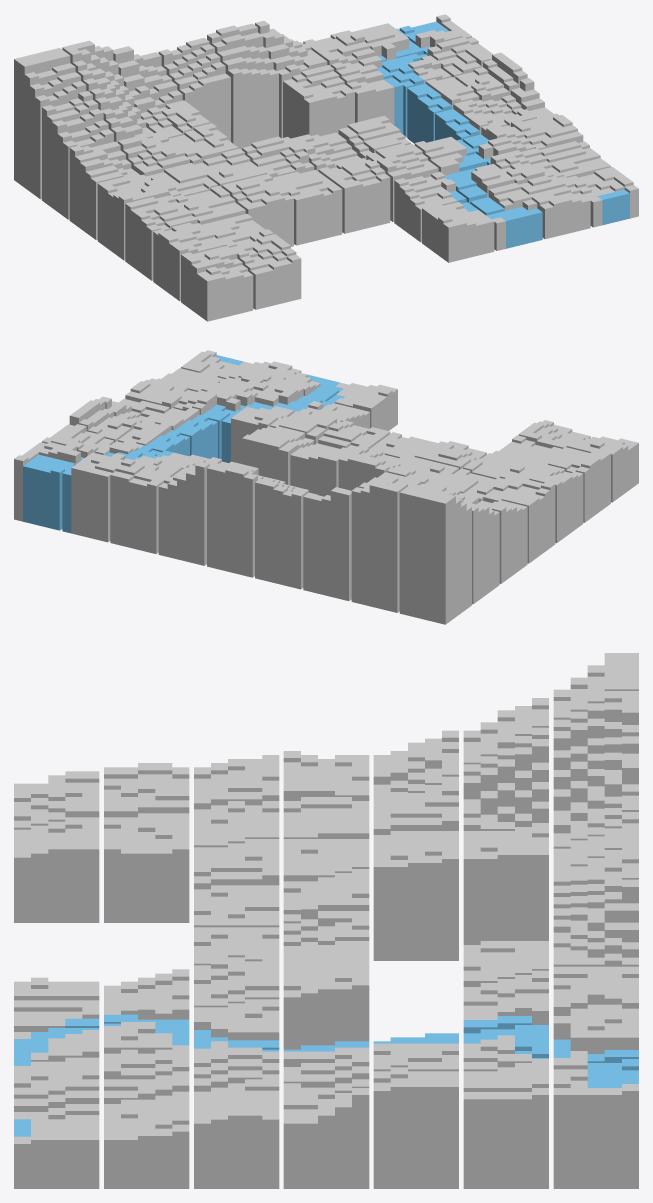
The model's file is context_upper_right.glb.
3 renders of one model, top to bottom at view 1: azimuth 30°, elevation 25°; view 2: azimuth 150°, elevation 25°; view 3: azimuth 270°, elevation 25°, orthographic. The views are drawn at different scales.
Visible parts, largest first — view 1: ctx_upper_right; view 2: ctx_upper_right; view 3: ctx_upper_right.
Part boxes in pixels (x1,y1,x2,y2): ctx_upper_right: (14, 14, 638, 321); ctx_upper_right: (14, 350, 638, 624); ctx_upper_right: (14, 653, 638, 1188).
Size of the model in its own units: 89.5 by 24 by 69.5.
